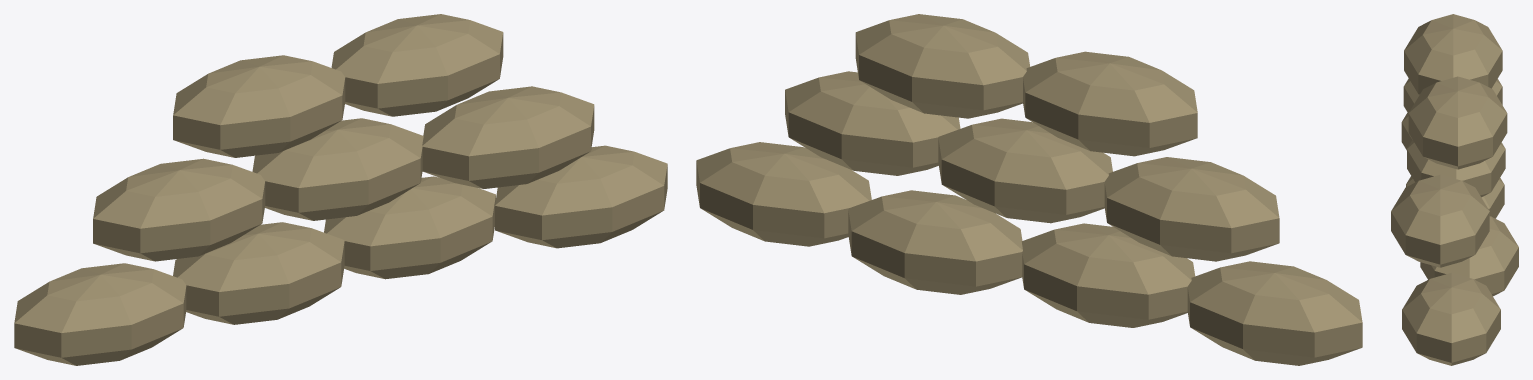
File: sandbags.glb
3 views of the same model, side by side, from view 1: azimuth 30°, elevation 25°; view 2: azimuth 150°, elevation 25°; view 3: azimuth 270°, elevation 25° (orthographic). The views are drawn at different scales.
Visible parts, largest first — view 1: sandbags; view 2: sandbags; view 3: sandbags.
Part boxes in pixels (x1,y1,x2,y2): sandbags: [14, 14, 667, 365]; sandbags: [696, 14, 1362, 365]; sandbags: [1391, 14, 1518, 365].
Bounding box in the file's own units: 1.22 × 0.4428 × 0.2596.
